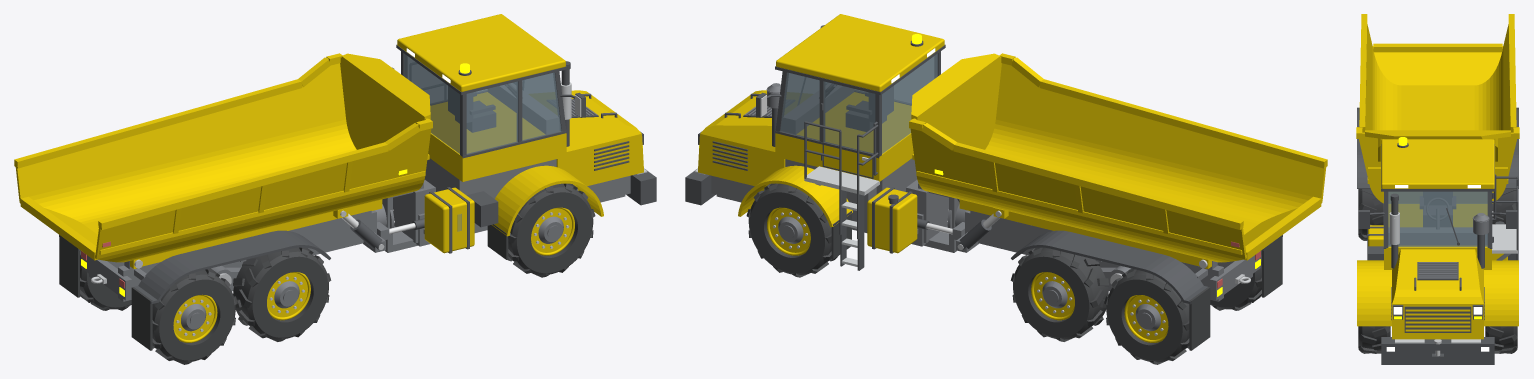
File: articulated-dump-truck-30t.glb
The picture shows the model from 3 angles, left to right: view 1: azimuth 30°, elevation 25°; view 2: azimuth 150°, elevation 25°; view 3: azimuth 270°, elevation 25°; orthographic projection. The views are drawn at different scales.
Parts seen in each view (by area): view 1: rim_front_L, tyre_front_L, hub_front_L, steering_cylinder, cab_glass, wheel_nuts_front_L; view 2: rim_front_L, tyre_front_L, steering_cylinder, hub_front_L, cab_glass, bumper_steps, wheel_nuts_front_L; view 3: rim_front_L, steering_cylinder, cab_glass, tyre_front_L, hub_front_L, bumper_steps, headlight, indicators_rear.
Part boxes in pixels (x1,y1,x2,y2): rim_front_L: [14, 14, 643, 342]; tyre_front_L: [59, 183, 595, 364]; hub_front_L: [81, 83, 630, 331]; steering_cylinder: [59, 44, 656, 304]; cab_glass: [404, 53, 561, 231]; wheel_nuts_front_L: [91, 209, 569, 335]; rim_front_L: [698, 14, 1327, 342]; tyre_front_L: [746, 183, 1282, 364]; steering_cylinder: [685, 25, 1282, 304]; hub_front_L: [711, 83, 1260, 331]; cab_glass: [780, 53, 937, 153]; bumper_steps: [694, 166, 879, 266]; wheel_nuts_front_L: [772, 209, 1250, 336]; rim_front_L: [1356, 14, 1519, 339]; steering_cylinder: [1357, 107, 1518, 364]; cab_glass: [1388, 191, 1487, 247]; tyre_front_L: [1358, 189, 1517, 353]; hub_front_L: [1388, 213, 1510, 278]; bumper_steps: [1389, 212, 1517, 343]; headlight: [1386, 185, 1489, 351]; indicators_rear: [1394, 137, 1481, 319].
Bounding box in the file's own units: 10.63 × 3.75 × 3.03.
